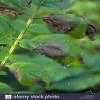Potato leaf late blight: (29, 34, 90, 70), (39, 12, 98, 42), (6, 62, 52, 92), (0, 0, 34, 18)
